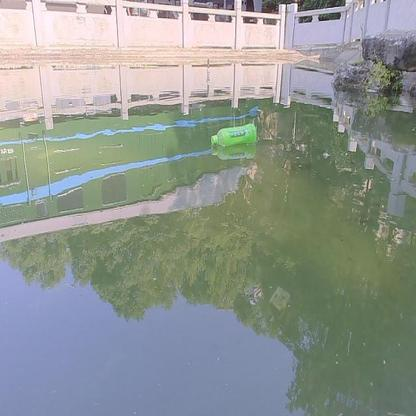plastic bottle: (210, 123, 257, 146)
